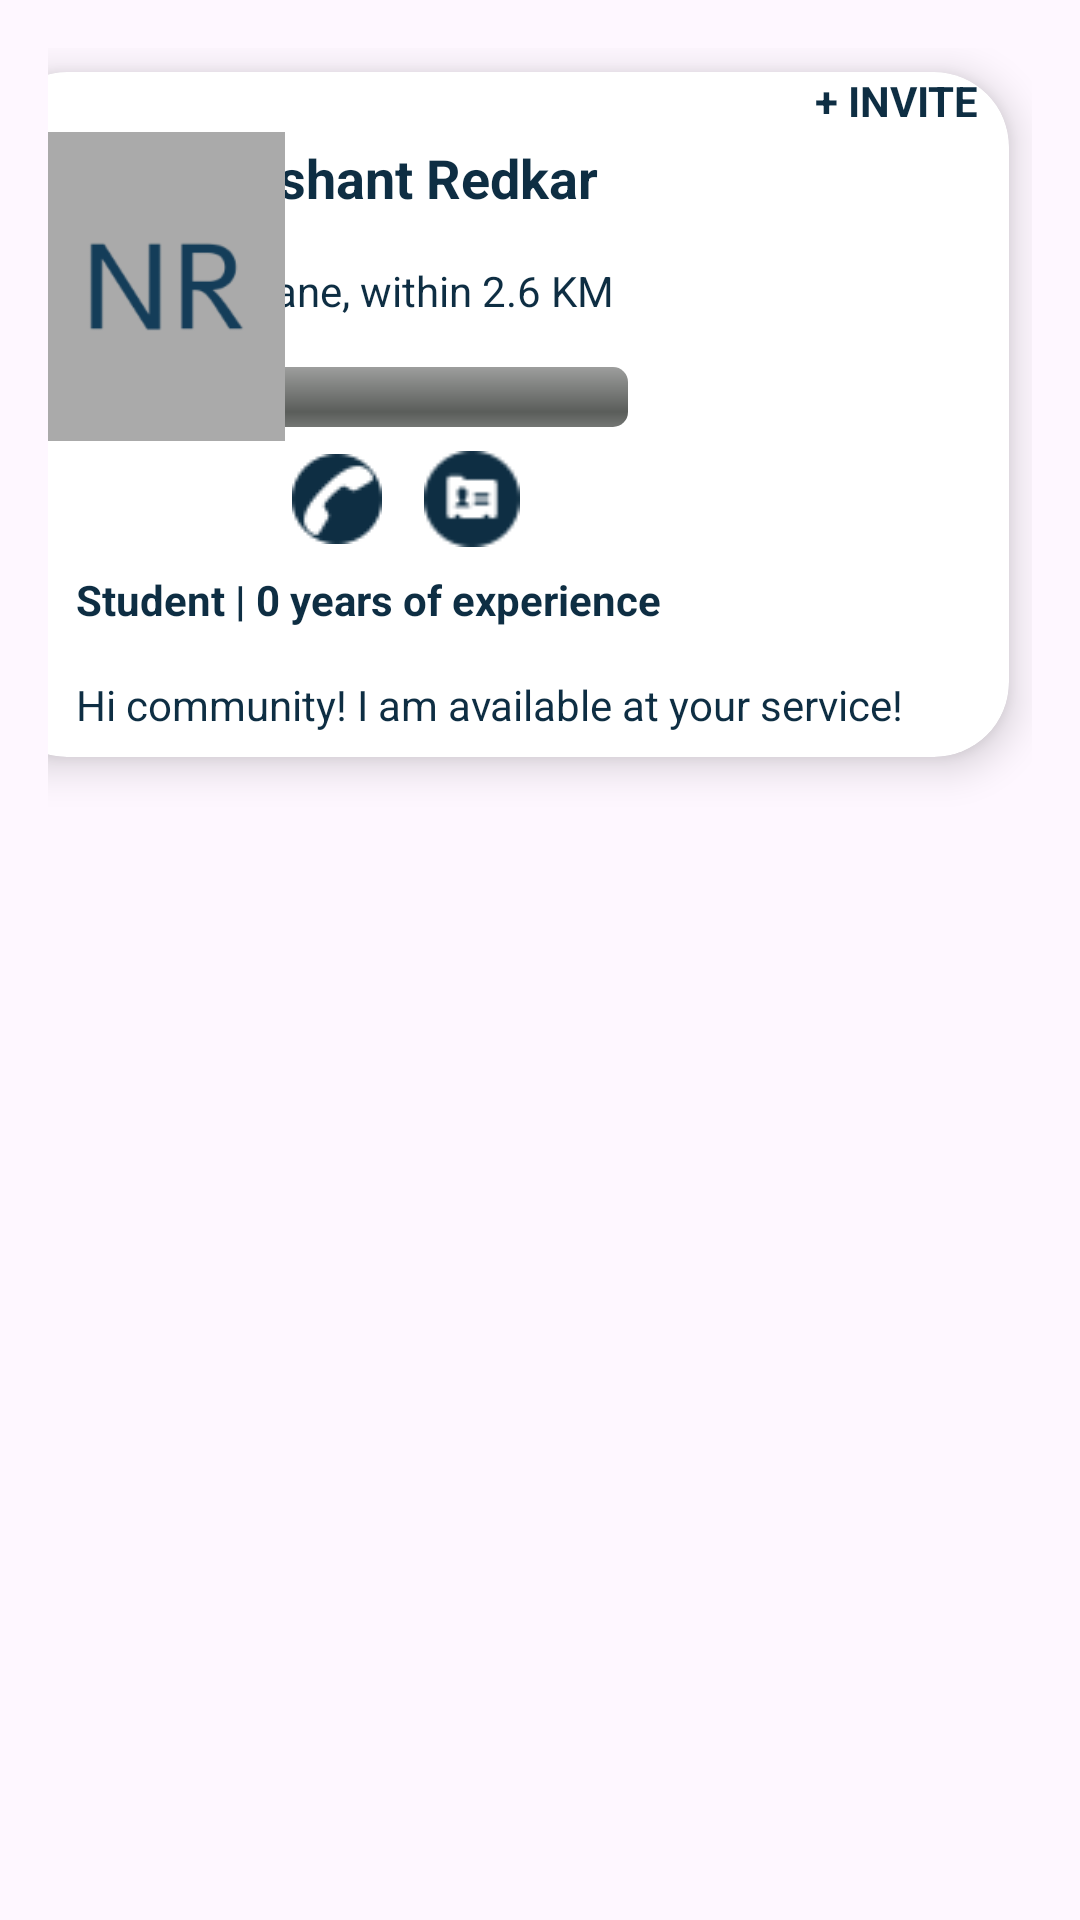

Icon bounding boxes for this 1080x1920 phone screenshot, format (x1, y1, x2, y2):
call: (292, 454, 382, 544)
contact: (424, 451, 520, 547)
